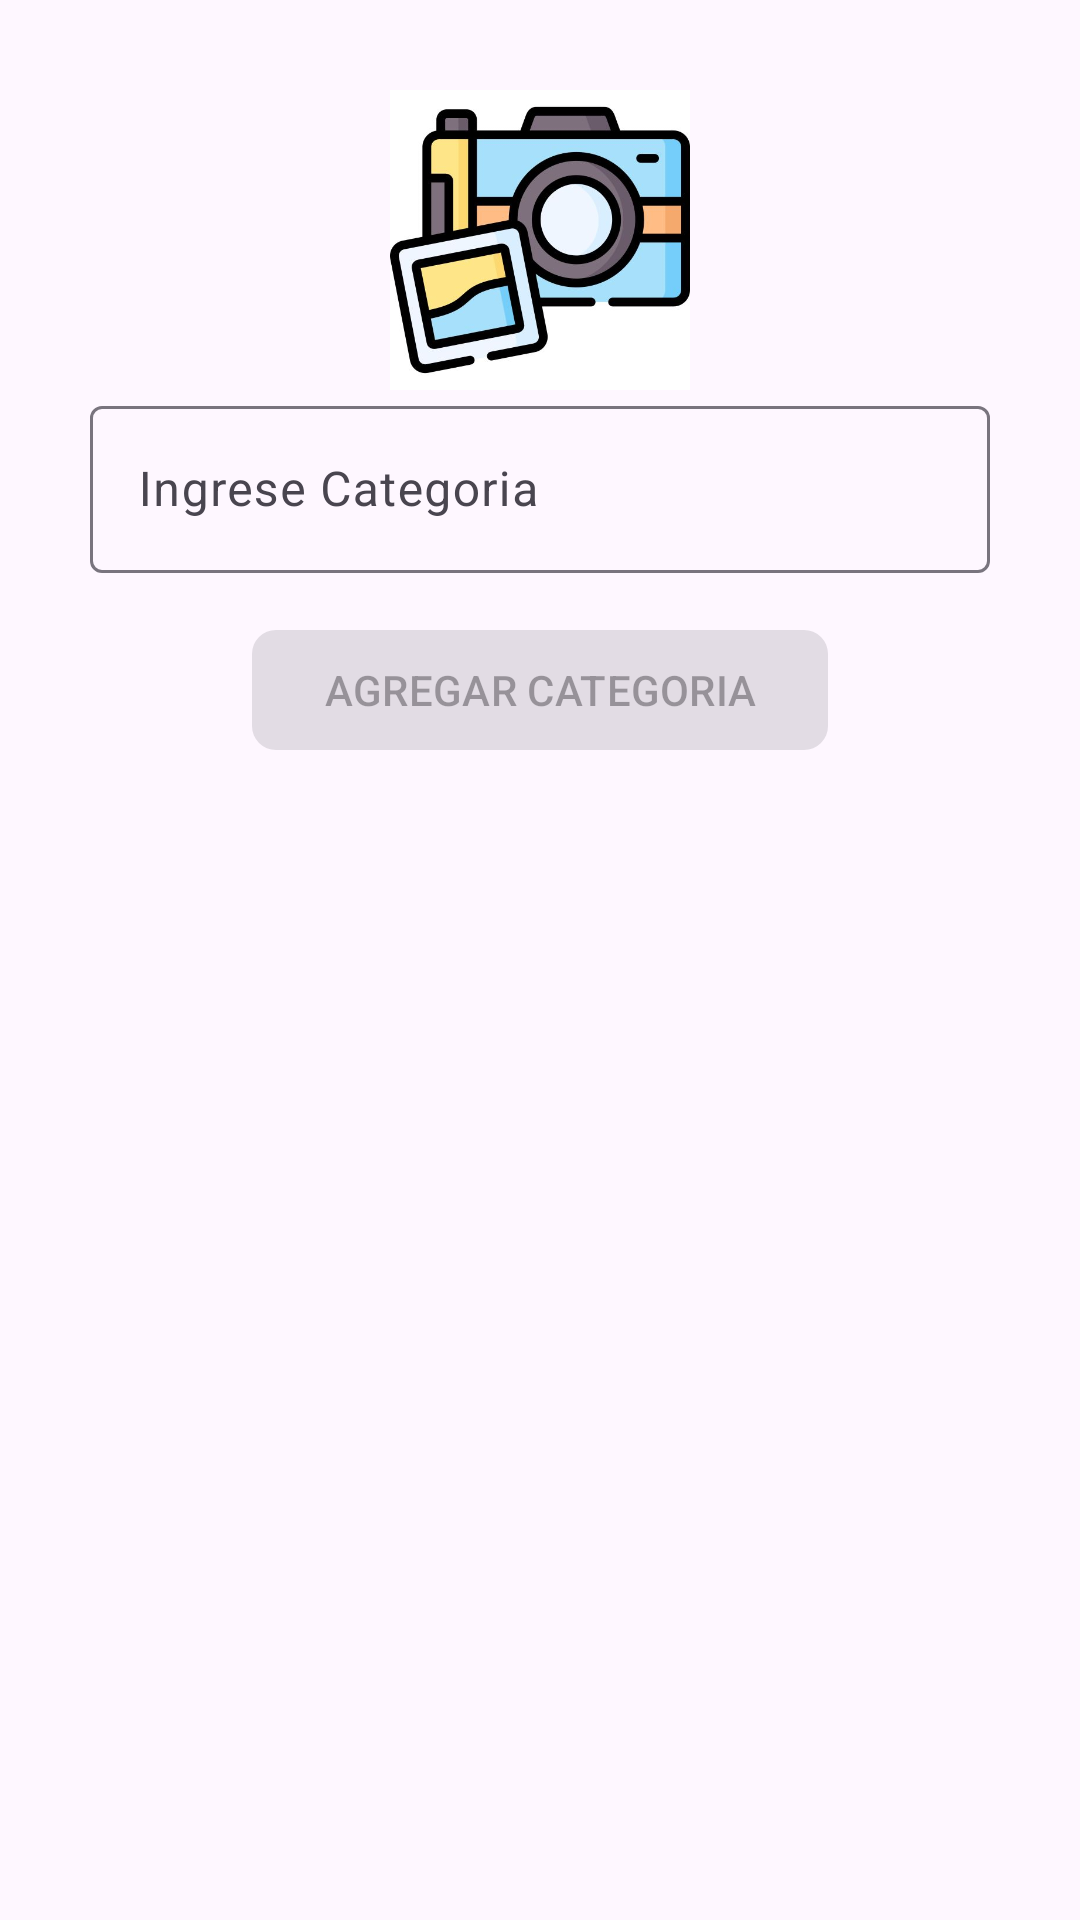

Locate icon controls on the screen. Image size 1080×1920, boxes as (x1, y1, x2, y2).
foto: (390, 106, 690, 374)
